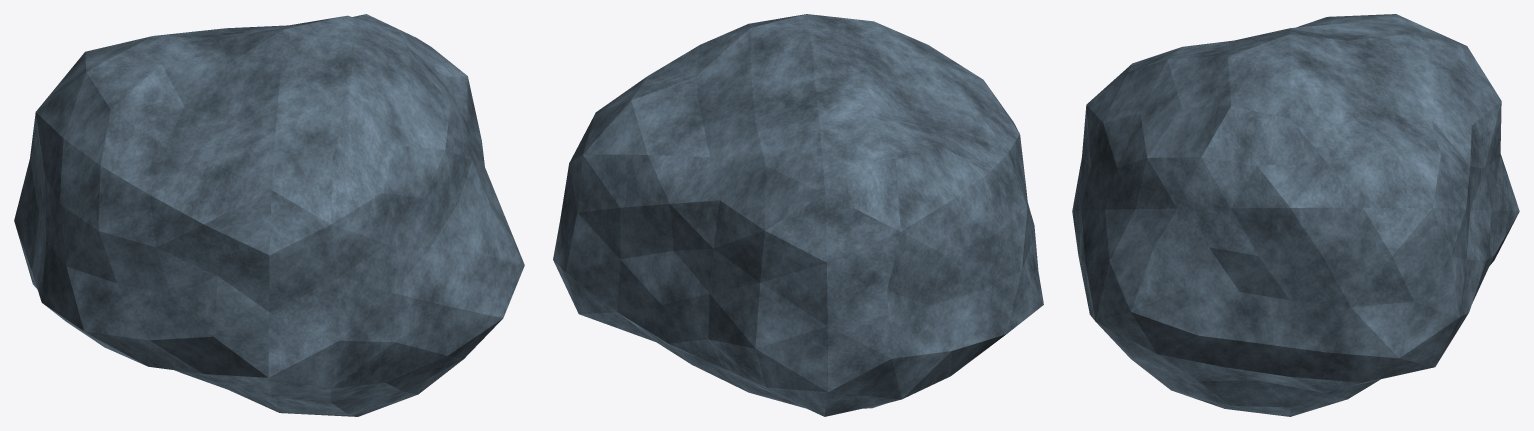
File: Asteroid_Icy_Industrial.glb
3 renders of one model, left to right at view 1: azimuth 30°, elevation 25°; view 2: azimuth 150°, elevation 25°; view 3: azimuth 270°, elevation 25°, orthographic. The views are drawn at different scales.
Parts seen in each view (by area): view 1: Fractured rock; view 2: Fractured rock; view 3: Fractured rock.
Boxes of the visible parts, x1,y1,x2,y2 form: Fractured rock: (14, 14, 524, 416); Fractured rock: (553, 14, 1043, 416); Fractured rock: (1072, 14, 1519, 416).
Bounding box in the file's own units: 2.33 × 1.92 × 2.18.
Materials: 1 (1 with a texture image).
